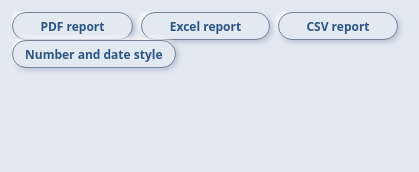
Scenario: ReportDownload › labels the Excel button while it prepares
Click the button "Excel report" at [205, 26], box [141, 12, 270, 40]
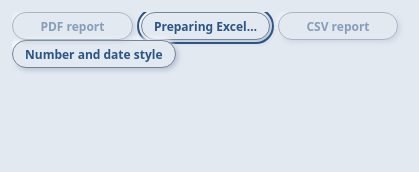
Now the button "Preparing Excel…" has attribute aria-busy="true", box [141, 12, 270, 40]
Now the button "PDF report" is disabled, box [12, 12, 133, 40]
